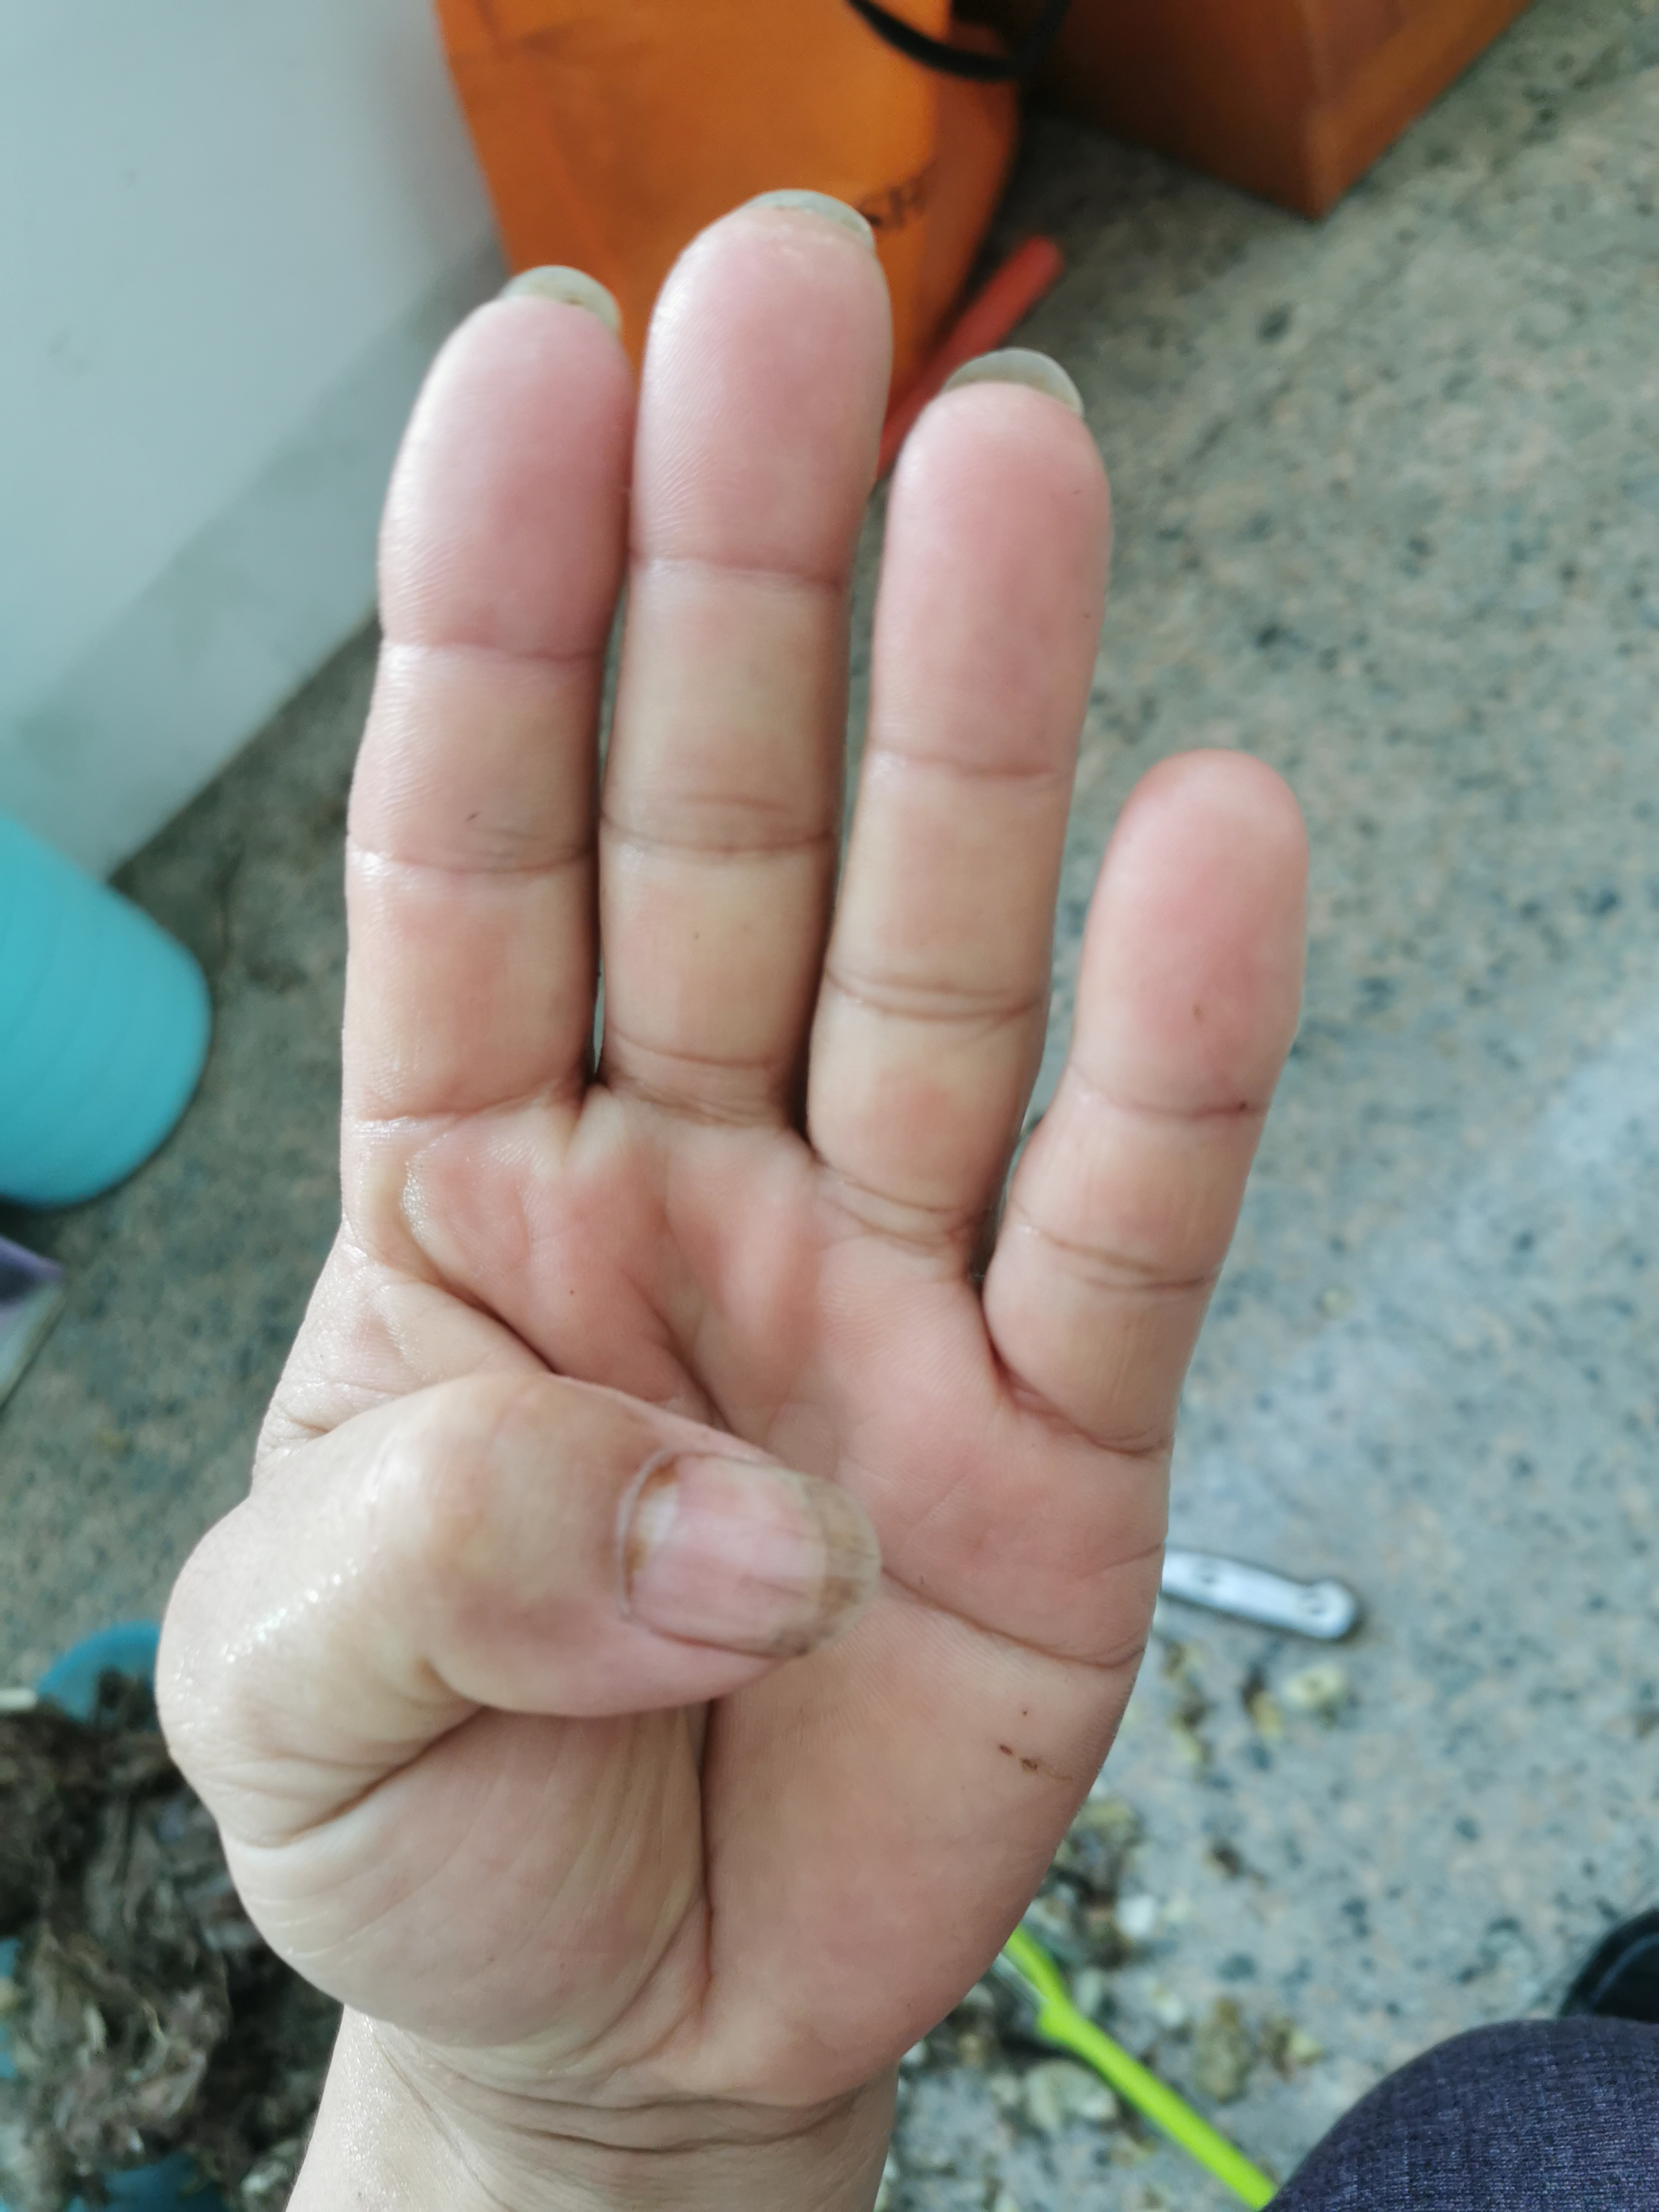right: (152, 169, 1373, 2125)
